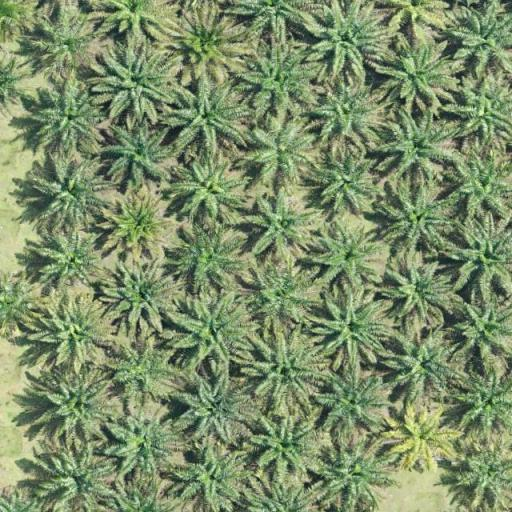Ganoderma: (395, 417, 449, 463)
